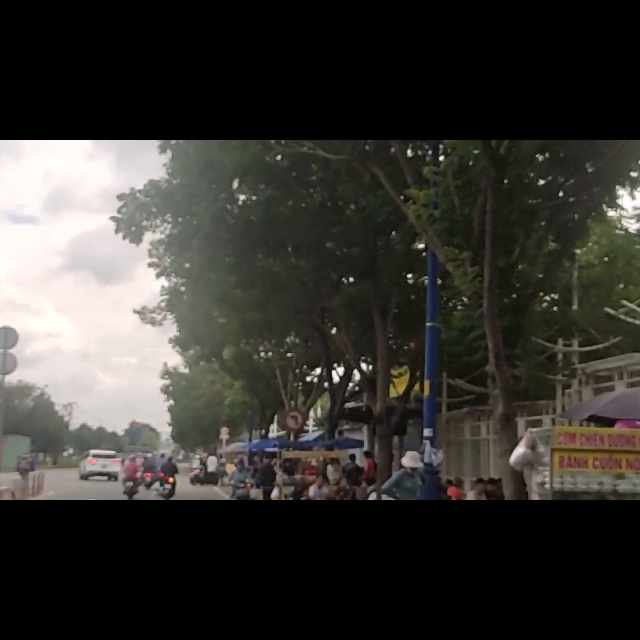bien_cam: (282, 479, 308, 518)
